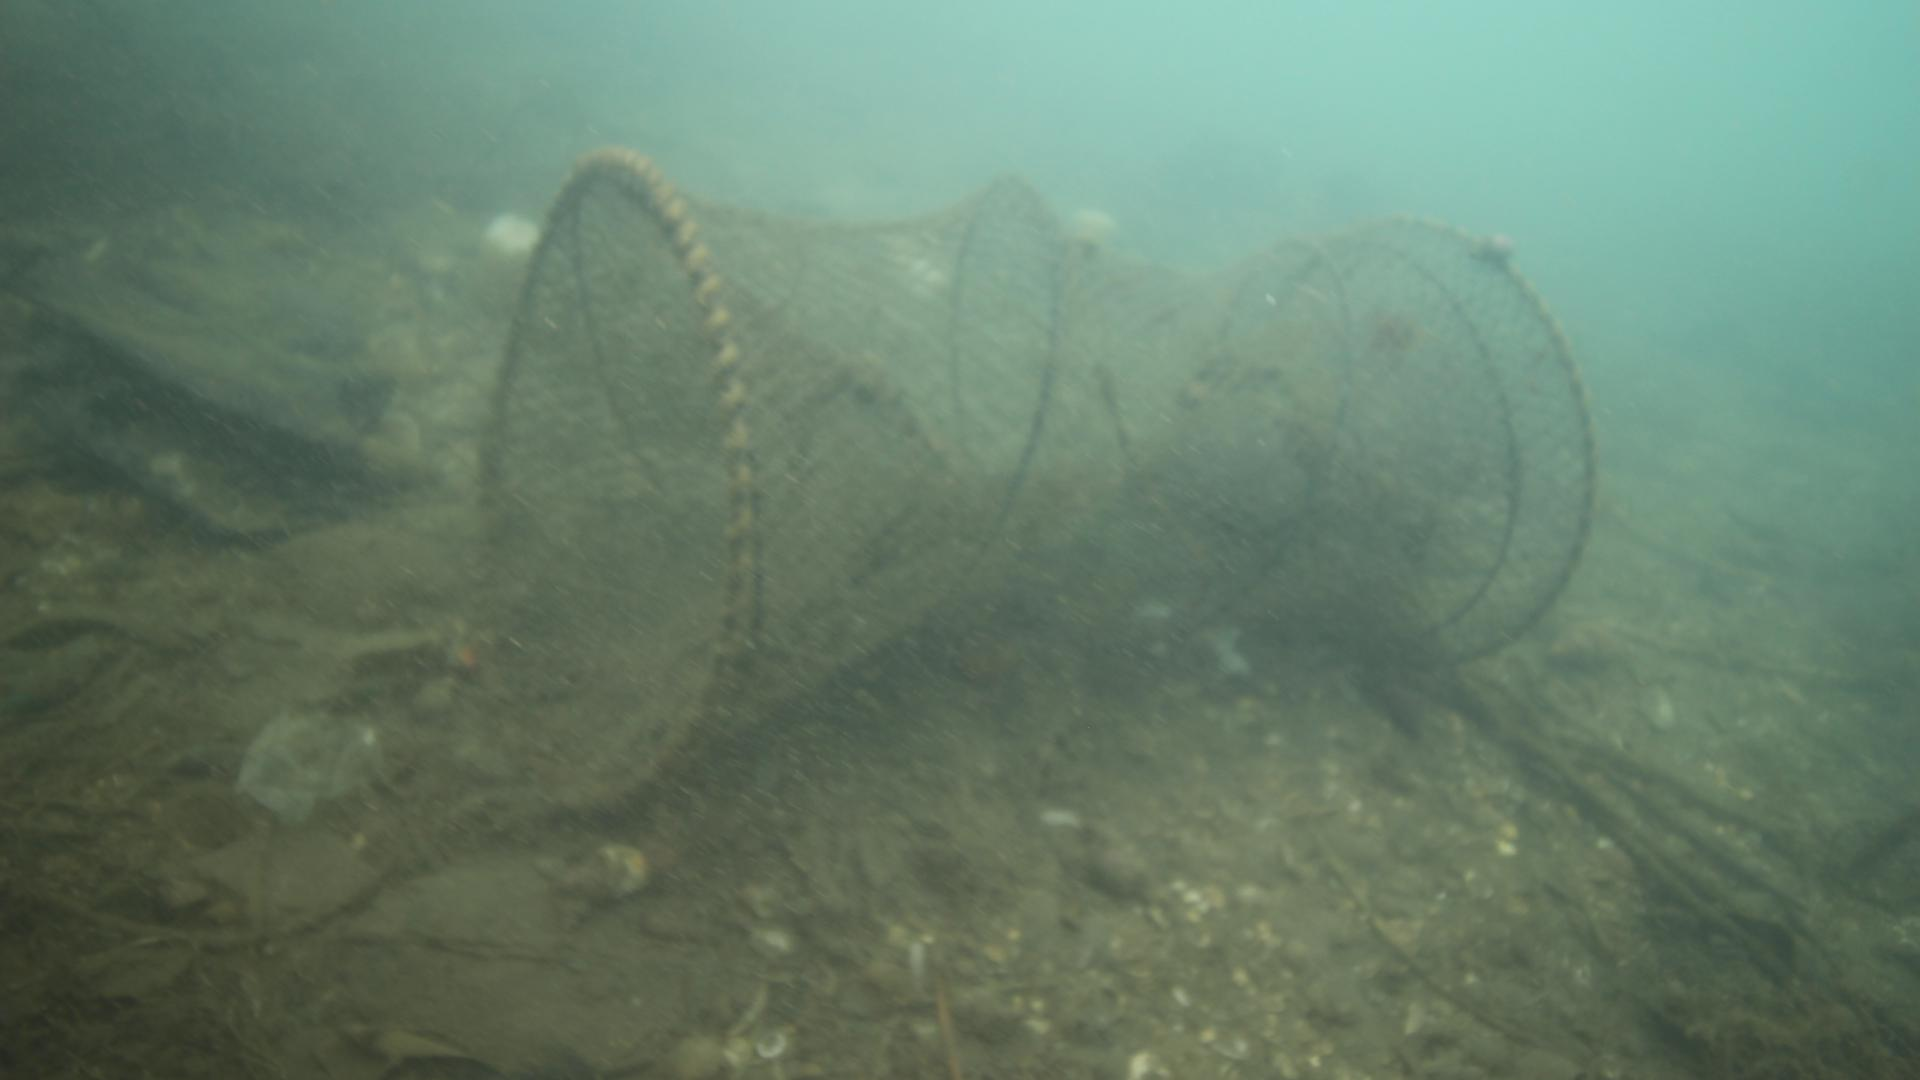spring fish trap: (476, 142, 1598, 829)
